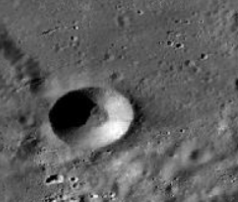crater: (15, 66, 184, 167)
